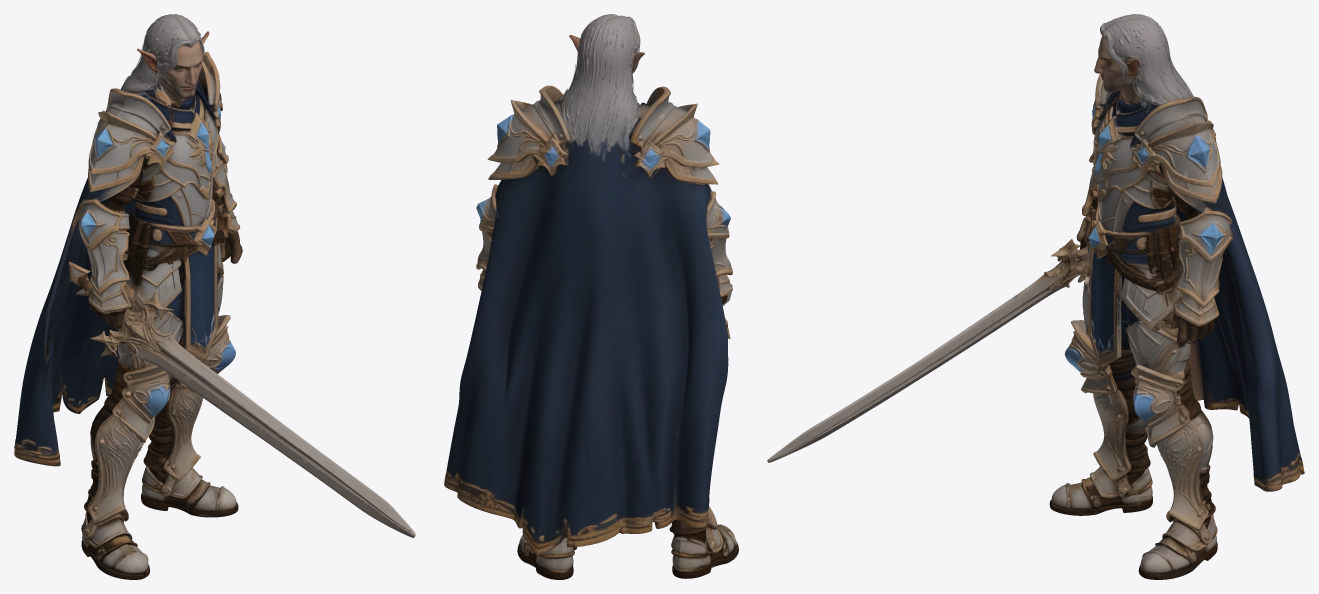
The model's file is elf_warrior_full_male_01.glb.
3 views of the same model, side by side, from view 1: azimuth 30°, elevation 25°; view 2: azimuth 150°, elevation 25°; view 3: azimuth 270°, elevation 25° (orthographic). The views are drawn at different scales.
Visible parts, largest first — view 1: material; view 2: material; view 3: material.
Part boxes in pixels (x1,y1,x2,y2): material: (14, 14, 415, 579); material: (444, 14, 738, 579); material: (767, 14, 1304, 579).
Bounding box in the file's own units: 0.4535 × 1.01 × 0.9344.
Materials: 1 (1 with a texture image).
